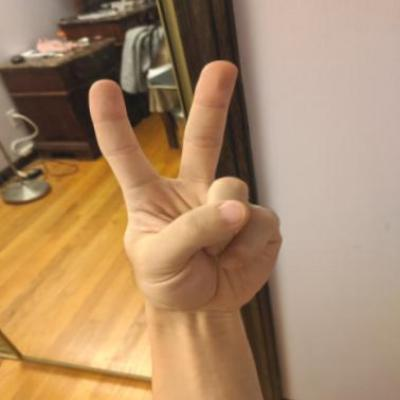hand: (80, 51, 290, 323)
